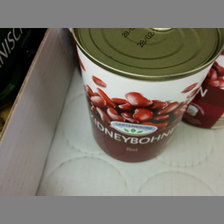beans: (70, 28, 222, 164)
